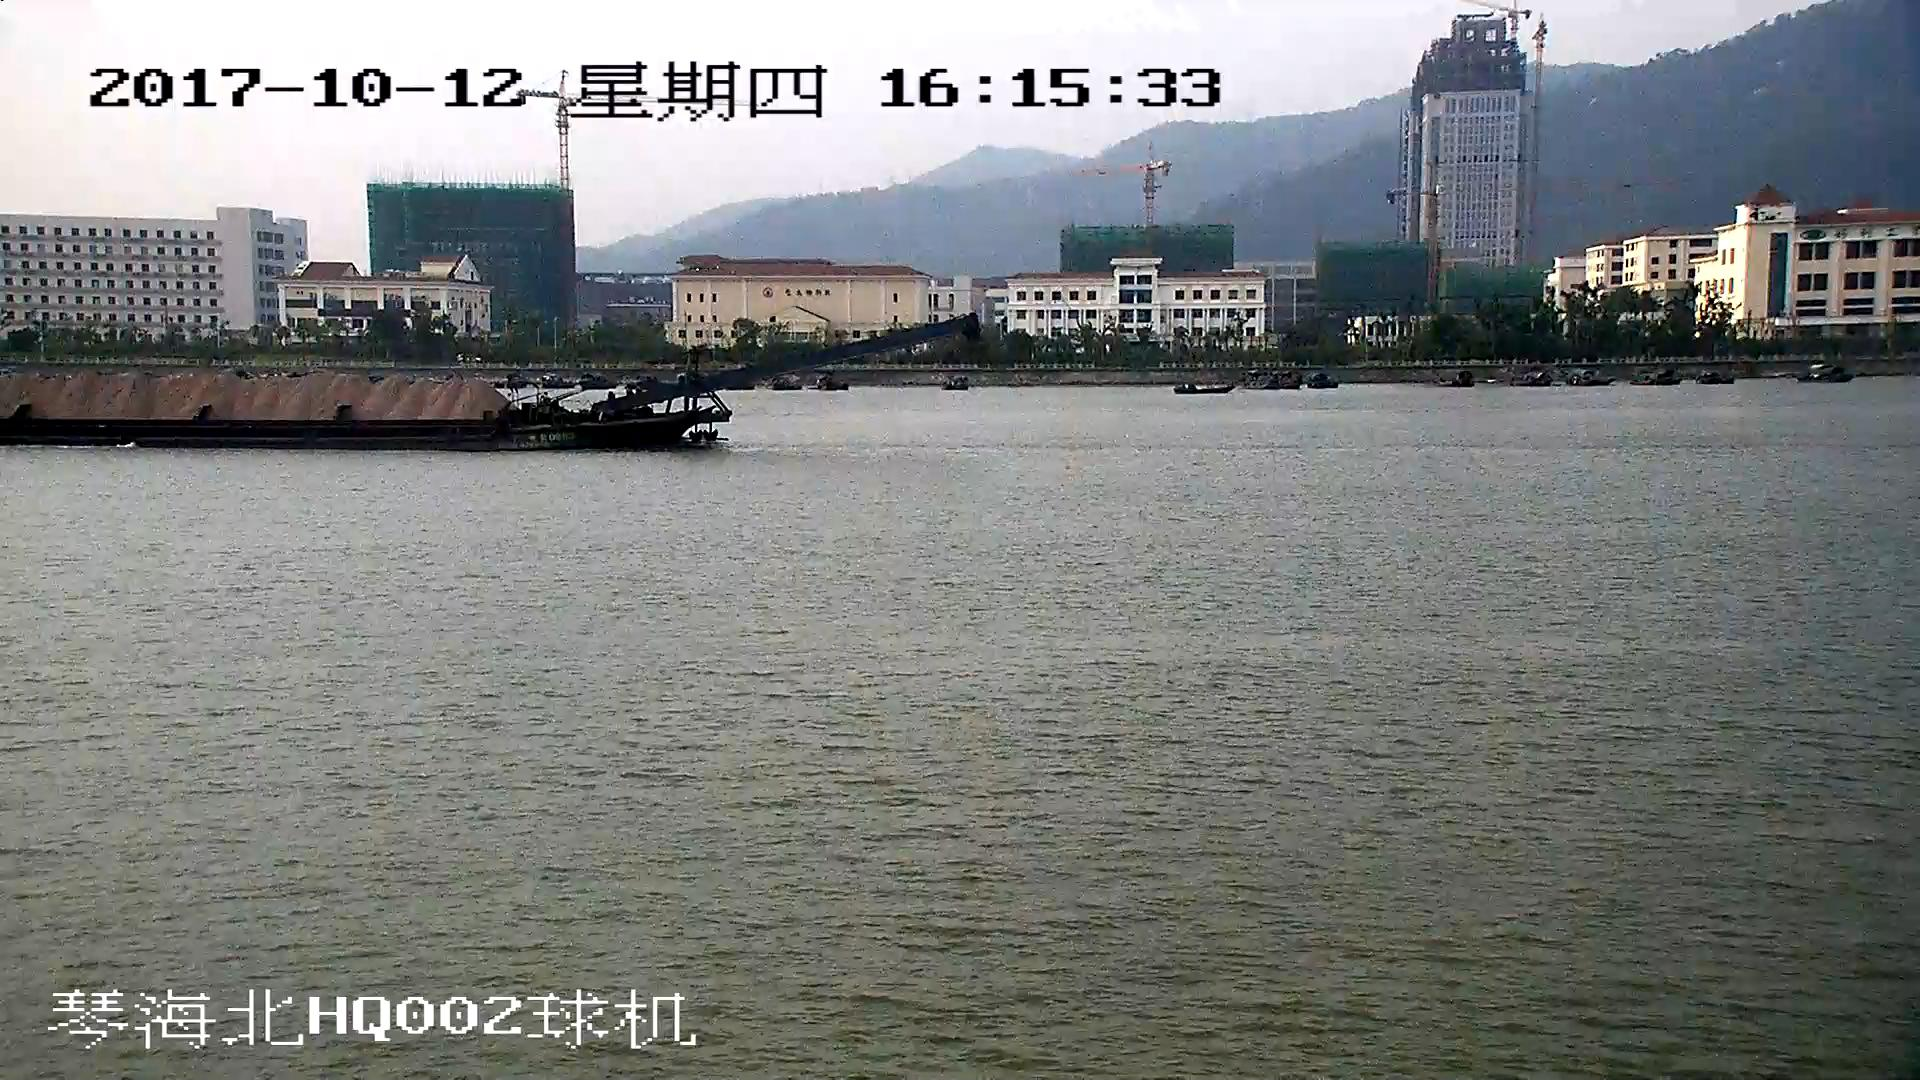ore carrier: (1, 317, 973, 446)
